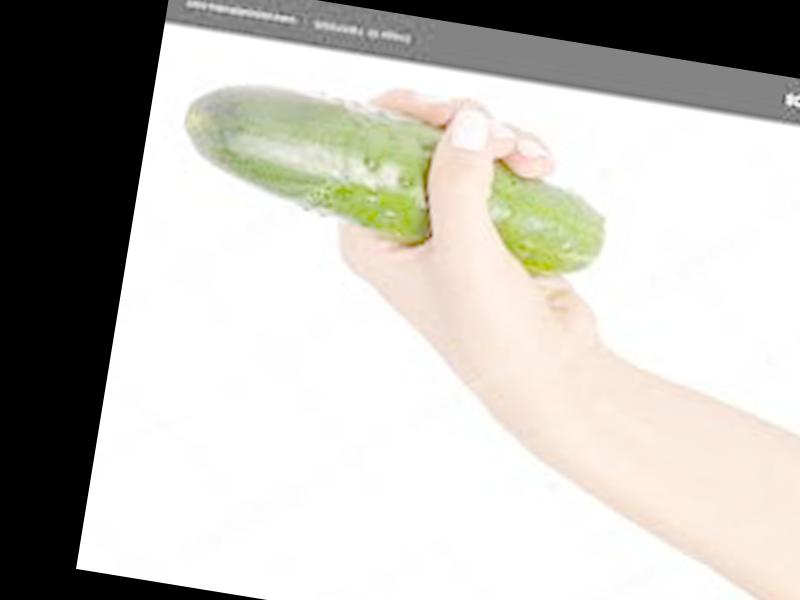Cucumber: (168, 73, 617, 284)
